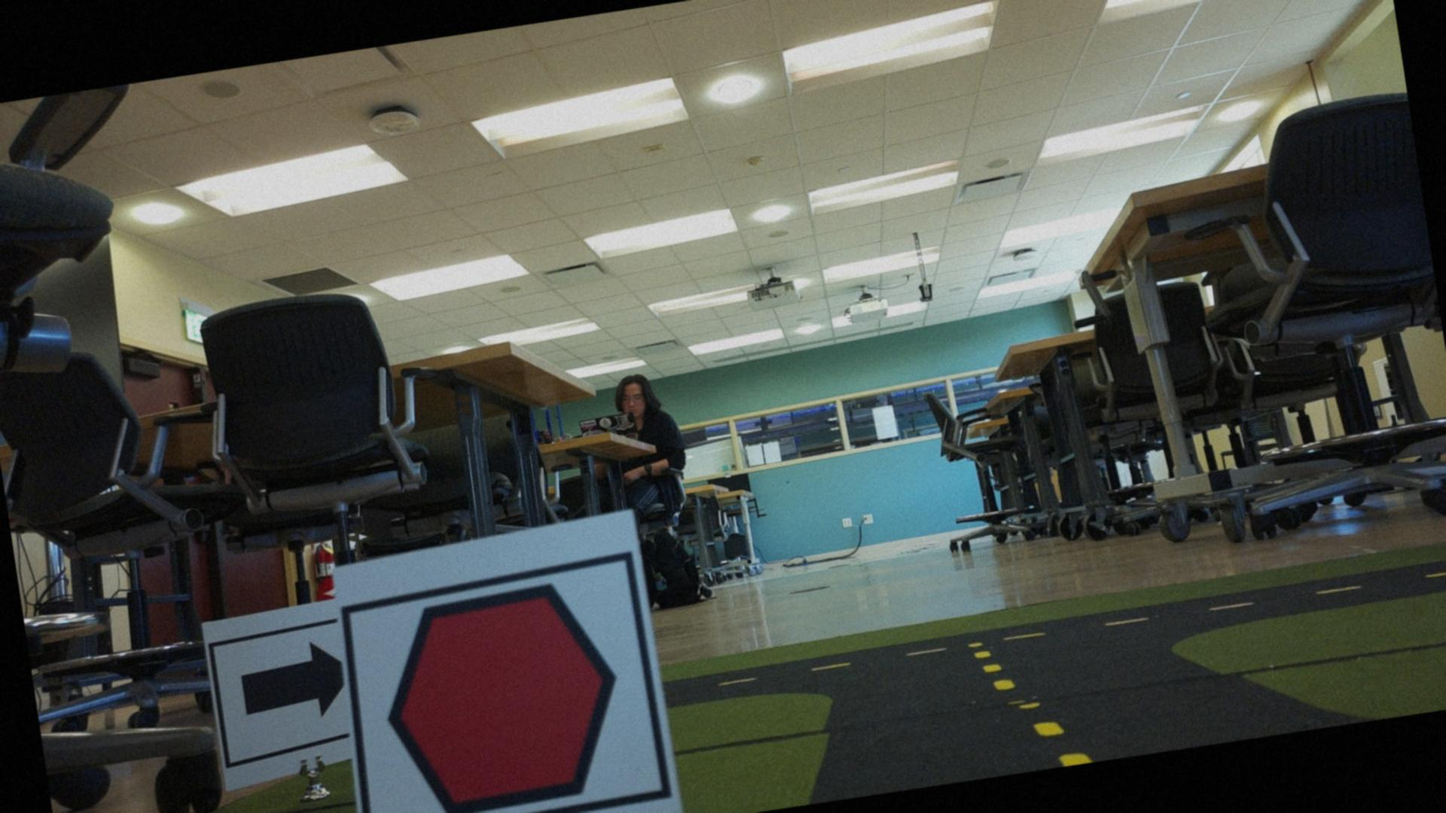stop: (355, 565, 651, 812)
turnright: (212, 629, 352, 746)
yellowline: (1032, 708, 1096, 770), (974, 641, 1020, 696)
